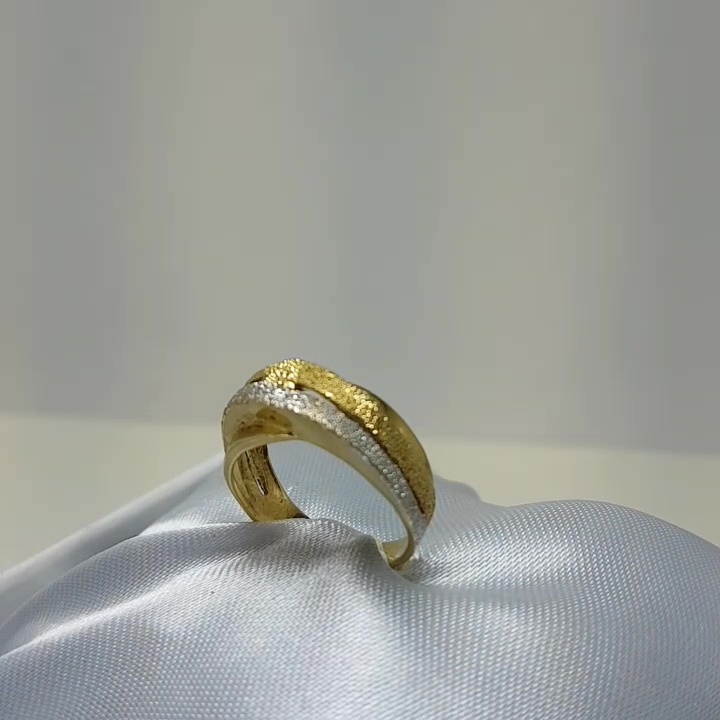Ring 5: (193, 358, 443, 609)
